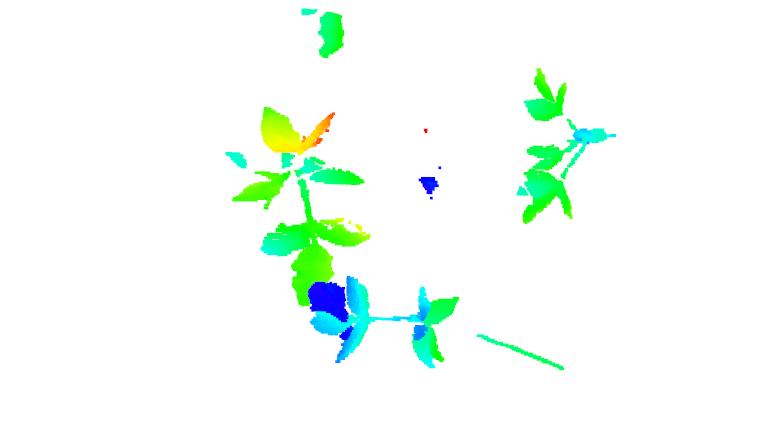mungbean: (229, 100, 372, 306), (511, 64, 620, 231), (308, 276, 468, 370)
